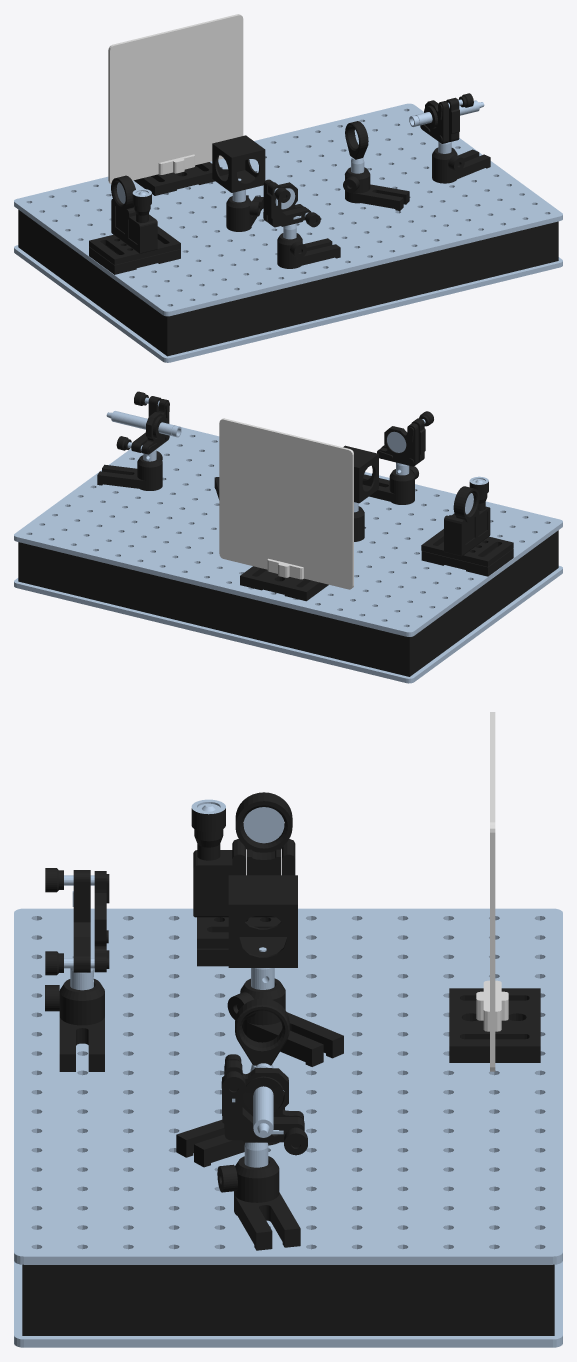
The picture shows the model from 3 angles, top to bottom: view 1: azimuth 30°, elevation 25°; view 2: azimuth 150°, elevation 25°; view 3: azimuth 270°, elevation 25°; orthographic projection. The views are drawn at different scales.
Visible parts, largest first — view 1: Base, Schirm, TranslateMirror, Laser, Mirror1; view 2: Base, Schirm, TranslateMirror, Laser, Mirror1; view 3: Base, Laser, TranslateMirror, Mirror1, Schirm.
Part boxes in pixels (bbox=[...]): Base: bbox=[14, 103, 562, 362]; Schirm: bbox=[108, 14, 243, 195]; TranslateMirror: bbox=[89, 175, 180, 274]; Laser: bbox=[409, 93, 490, 183]; Mirror1: bbox=[263, 179, 340, 268]; Base: bbox=[14, 427, 562, 683]; Schirm: bbox=[219, 418, 353, 601]; TranslateMirror: bbox=[421, 476, 513, 576]; Laser: bbox=[97, 391, 181, 490]; Mirror1: bbox=[363, 411, 433, 504]; Base: bbox=[14, 875, 562, 1347]; Laser: bbox=[217, 1054, 307, 1250]; TranslateMirror: bbox=[191, 792, 295, 966]; Mirror1: bbox=[45, 868, 109, 1071]; Schirm: bbox=[449, 712, 540, 1071].
Size of the model in its own units: 4.5 by 2.16 by 3.
